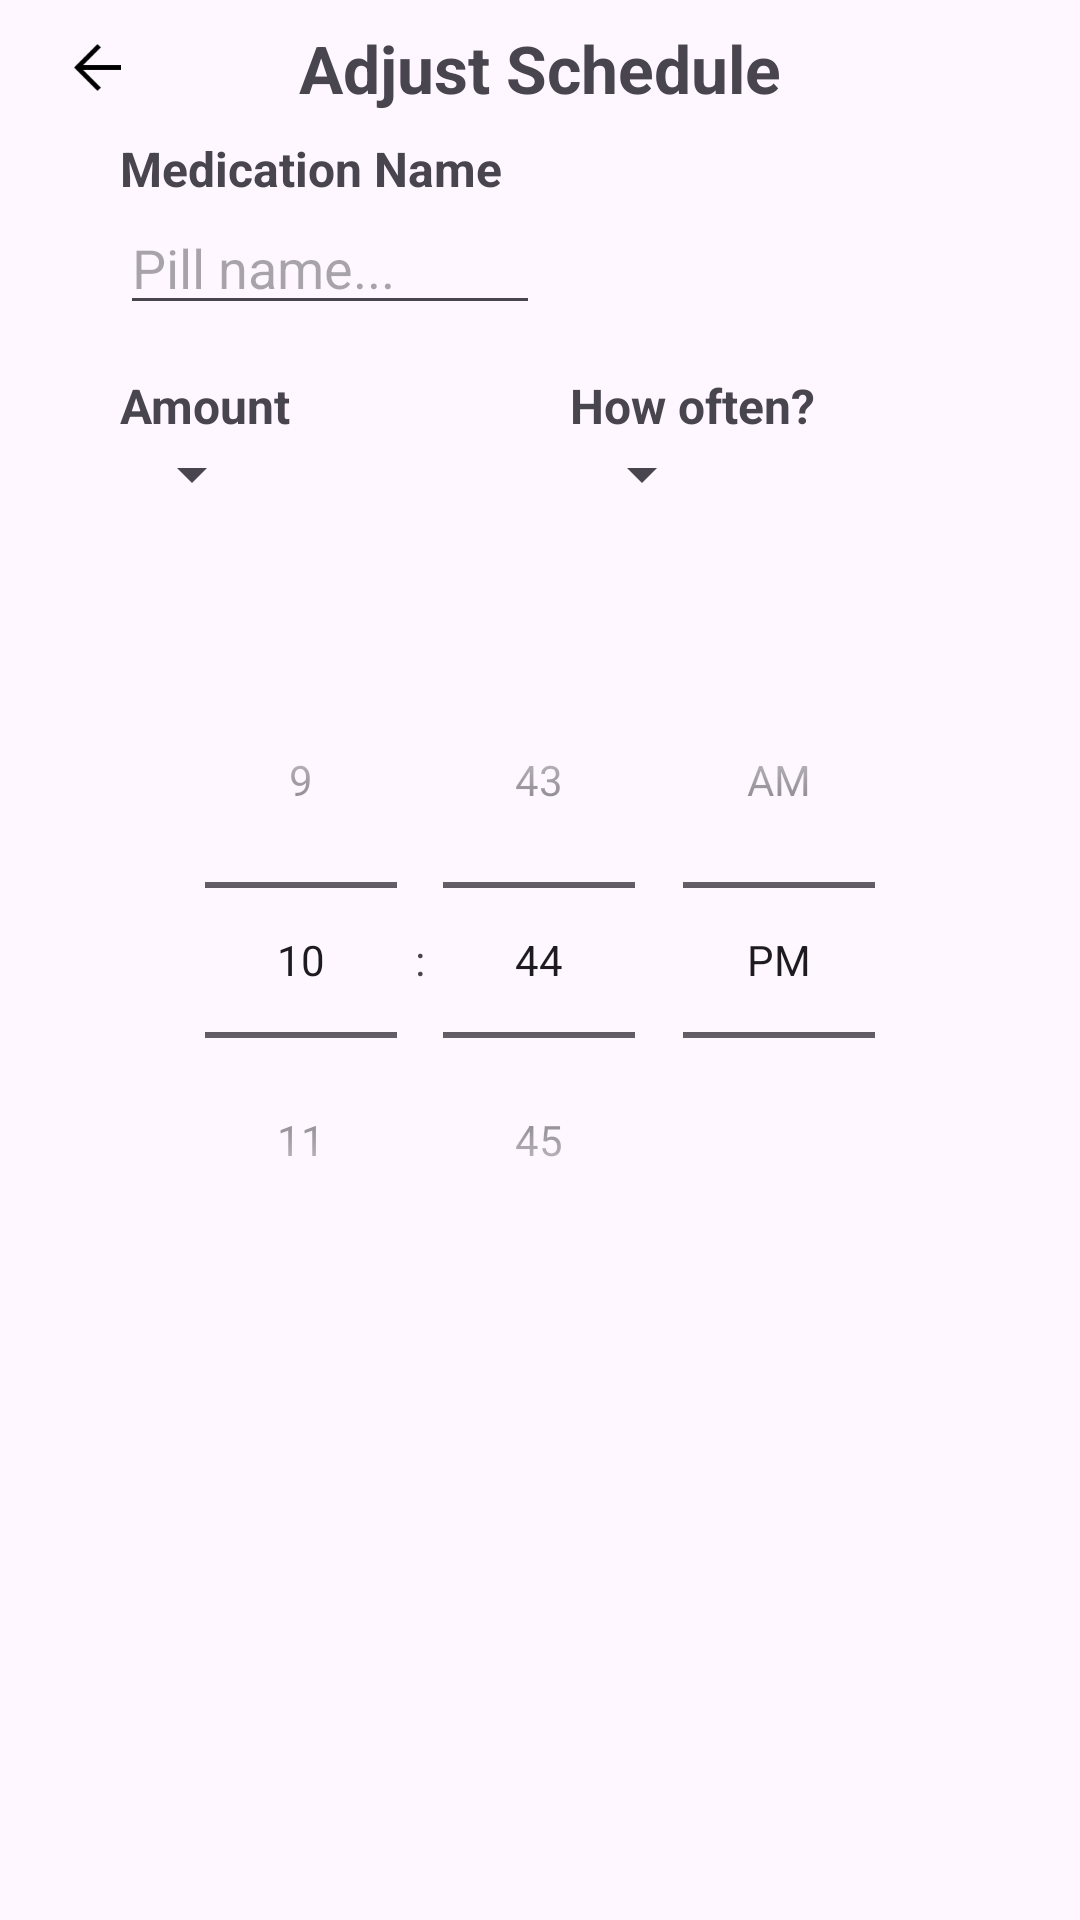

Screen size 1080w x 1920h. Icon name, then its center in pixels as [x,y]:
arrow back: [97,67]
